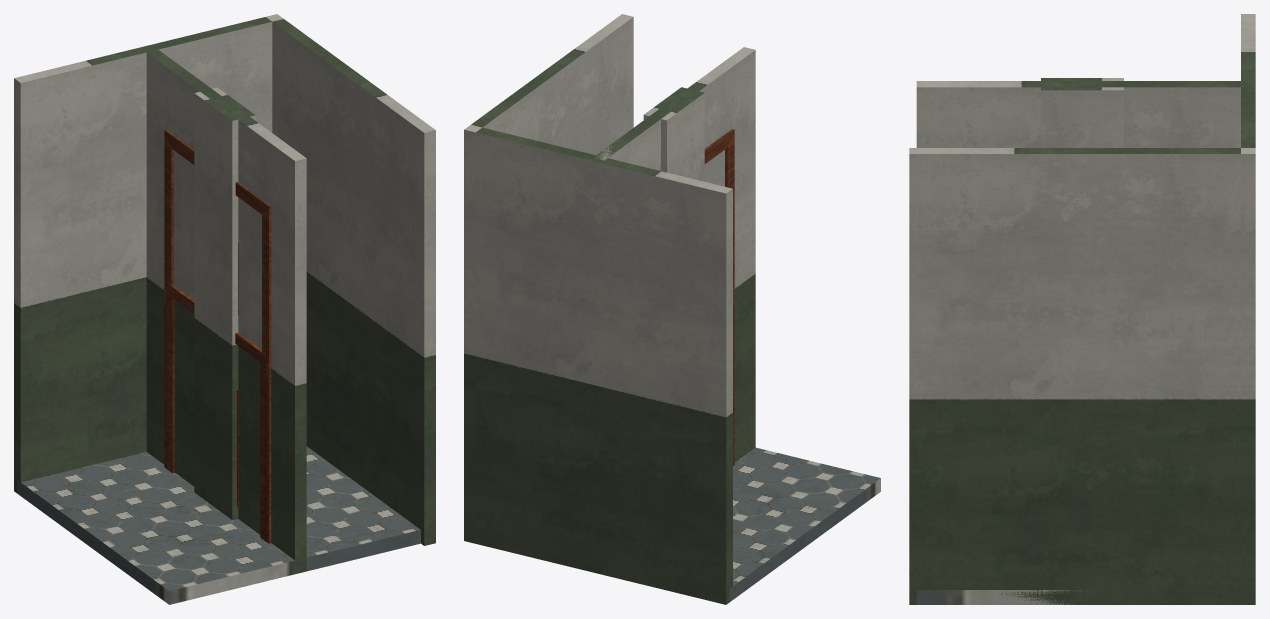
The model's file is room.glb.
3 views of the same model, side by side, from view 1: azimuth 30°, elevation 25°; view 2: azimuth 150°, elevation 25°; view 3: azimuth 270°, elevation 25° (orthographic). The views are drawn at different scales.
Visible parts, largest first — view 1: SM_Wall_Angle_2*2, SM_Floor_2*2, SM_Wall_2*3, SM_Wall_Colonum, SM_Doorway_2*3_1, SM_Interior_doorway, SM_Wall_1*3, SM_Window_frame, SM_Window_opening; view 2: SM_Wall_Angle_2*2, SM_Floor_2*2, SM_Wall_2*3, SM_Window_opening, SM_Wall_Colonum, SM_Doorway_2*3_1, SM_Interior_doorway, SM_Wall_1*3; view 3: SM_Wall_Angle_2*2, SM_Wall_2*3, SM_Doorway_2*3_1, SM_Wall_Colonum, SM_Window_opening, SM_Floor_2*2, SM_Wall_1*3.
Part boxes in pixels (<box>): SM_Wall_Angle_2*2: <box>14,14,435,545</box>; SM_Floor_2*2: <box>17,446,420,604</box>; SM_Wall_2*3: <box>147,49,306,574</box>; SM_Wall_Colonum: <box>194,87,255,519</box>; SM_Doorway_2*3_1: <box>146,50,306,464</box>; SM_Interior_doorway: <box>164,129,271,543</box>; SM_Wall_1*3: <box>181,159,256,530</box>; SM_Window_frame: <box>166,283,266,541</box>; SM_Window_opening: <box>174,122,306,442</box>; SM_Wall_Angle_2*2: <box>464,14,732,604</box>; SM_Floor_2*2: <box>729,447,880,601</box>; SM_Wall_2*3: <box>593,47,755,462</box>; SM_Window_opening: <box>722,50,755,343</box>; SM_Wall_Colonum: <box>643,87,704,181</box>; SM_Doorway_2*3_1: <box>596,119,660,170</box>; SM_Interior_doorway: <box>704,129,734,466</box>; SM_Wall_1*3: <box>699,79,717,183</box>; SM_Wall_Angle_2*2: <box>909,14,1255,604</box>; SM_Wall_2*3: <box>916,81,1247,147</box>; SM_Doorway_2*3_1: <box>916,87,1040,147</box>; SM_Wall_Colonum: <box>1041,78,1123,147</box>; SM_Window_opening: <box>1124,87,1240,147</box>; SM_Floor_2*2: <box>916,590,1090,604</box>; SM_Wall_1*3: <box>1030,87,1165,147</box>.
Bounding box in the file's own units: 2 × 3 × 2.09.
1 material, 1 textured.
